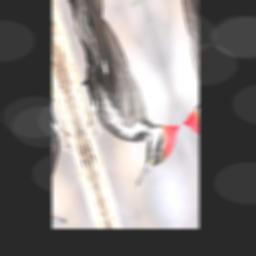Woodpecker: (62, 0, 191, 202)
